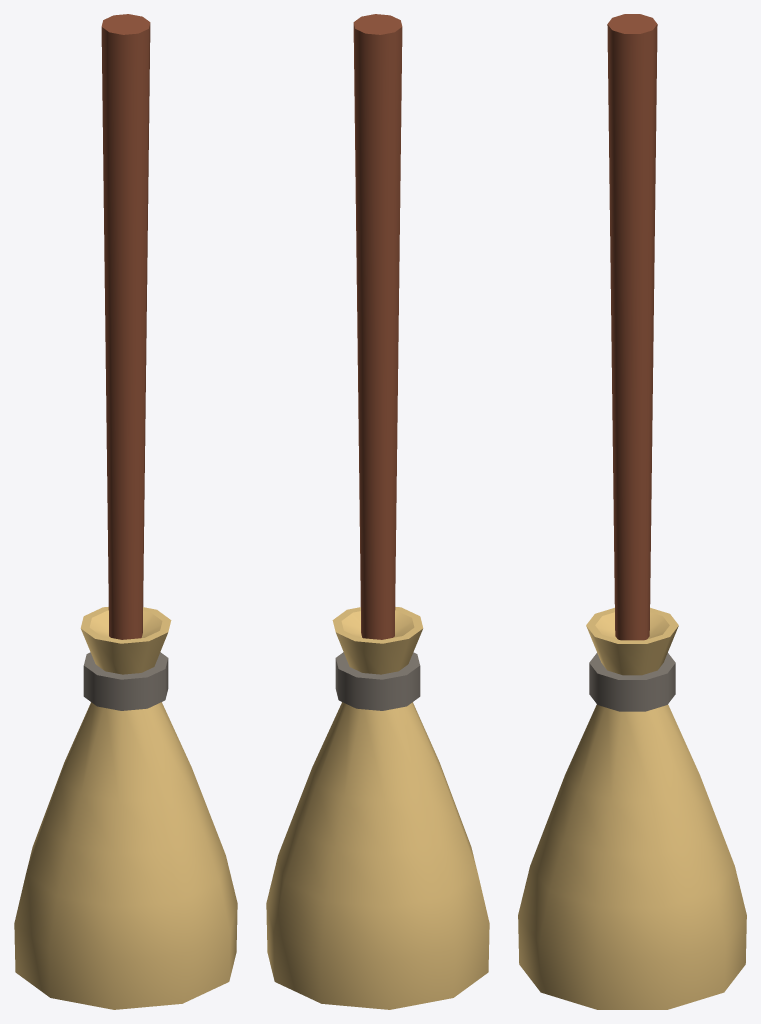
File: low_poly_broom.glb
The picture shows the model from 3 angles, left to right: view 1: azimuth 30°, elevation 25°; view 2: azimuth 150°, elevation 25°; view 3: azimuth 270°, elevation 25°; orthographic projection.
Visible parts, largest first — view 1: Broom; view 2: Broom; view 3: Broom.
Boxes of the visible parts, x1,y1,x2,y2 form: Broom: (14,14,237,1009); Broom: (266,14,489,1009); Broom: (518,14,746,1009).
Bounding box in the file's own units: 0.647 × 3.08 × 0.6803.
